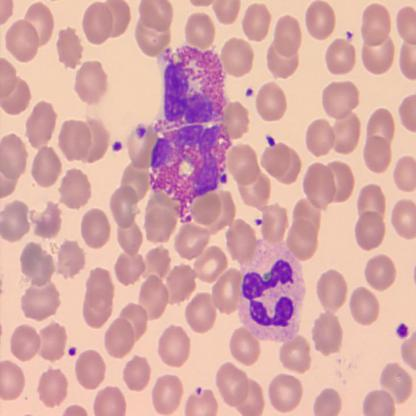Eosinophil: (148, 44, 236, 224)
